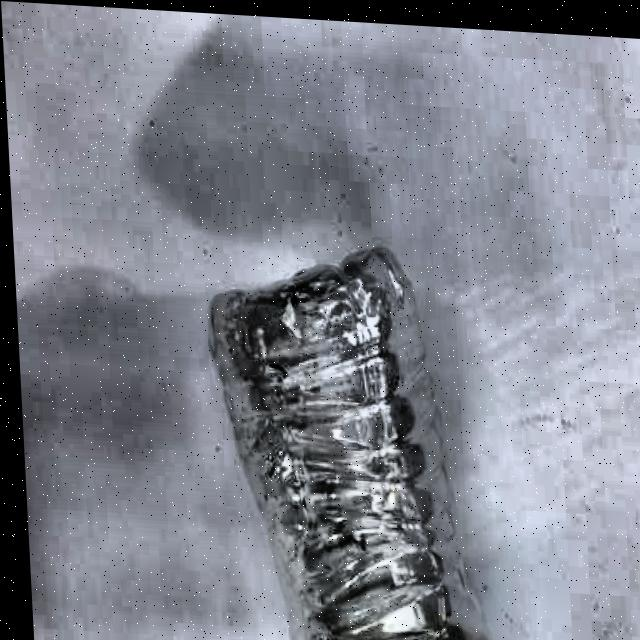plastic: (204, 233, 495, 640)
